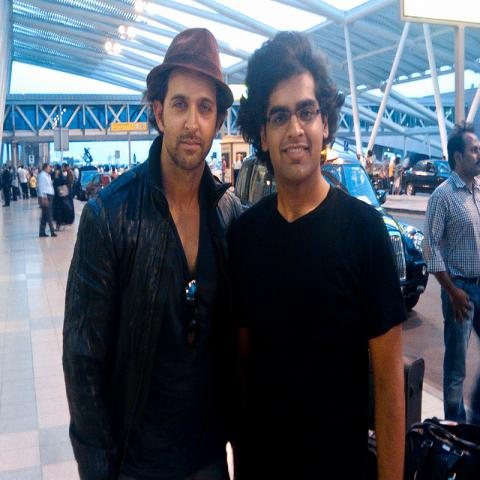car: (232, 146, 429, 313), (400, 160, 450, 196), (84, 172, 112, 200), (80, 170, 98, 201)
